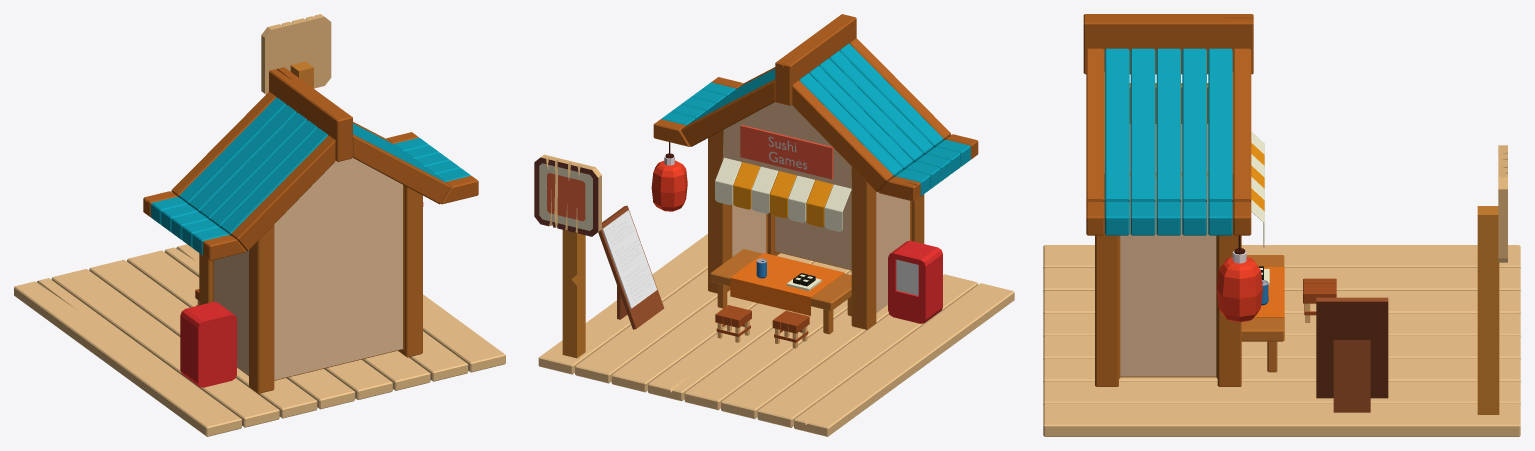
3 views of the same model, side by side, from view 1: azimuth 30°, elevation 25°; view 2: azimuth 150°, elevation 25°; view 3: azimuth 270°, elevation 25° (orthographic). The views are drawn at different scales.
Visible parts, largest first — view 1: Cube.004, Cube.002, Cube.003, Cube.009, Cube.005, Cube; view 2: Cube.002, Cube.003, Cube.004, Plane.001, Cube.005, Plane.005, Cube.009, Plane.004, Plane, Cube, Plane.003, Plane.002 (+3 smaller); view 3: Cube.002, Cube.003, Cube.004, Plane.005, Cube, Plane.003, Cube.010, Plane.002, Plane.001, Cube.005, Plane.004, Cube.007.
Boxes of the visible parts, bbox=[...] form: Cube.004: bbox=[199, 158, 422, 393]; Cube.002: bbox=[14, 244, 505, 436]; Cube.003: bbox=[143, 92, 478, 260]; Cube.009: bbox=[180, 302, 236, 387]; Cube.005: bbox=[261, 14, 331, 94]; Cube: bbox=[269, 67, 352, 161]; Cube.002: bbox=[538, 234, 1014, 436]; Cube.003: bbox=[653, 38, 978, 201]; Cube.004: bbox=[708, 102, 924, 329]; Plane.001: bbox=[715, 157, 851, 231]; Cube.005: bbox=[534, 154, 601, 236]; Plane.005: bbox=[598, 205, 664, 329]; Cube.009: bbox=[888, 240, 942, 323]; Plane.004: bbox=[730, 253, 844, 315]; Plane: bbox=[740, 125, 833, 179]; Cube: bbox=[775, 14, 856, 105]; Plane.003: bbox=[562, 229, 585, 358]; Plane.002: bbox=[710, 249, 851, 334]; Cube.002: bbox=[1043, 245, 1520, 436]; Cube.003: bbox=[1086, 48, 1251, 235]; Cube.004: bbox=[1095, 71, 1241, 386]; Plane.005: bbox=[1316, 297, 1388, 412]; Cube: bbox=[1083, 14, 1253, 74]; Plane.003: bbox=[1477, 206, 1499, 414]; Cube.010: bbox=[1216, 235, 1262, 322]; Plane.002: bbox=[1241, 255, 1284, 372]; Plane.001: bbox=[1251, 131, 1264, 247]; Cube.005: bbox=[1498, 145, 1507, 262]; Plane.004: bbox=[1254, 267, 1284, 340]; Cube.007: bbox=[1303, 278, 1336, 322].
Size of the model in its own units: 6.16 by 5.14 by 6.69.
